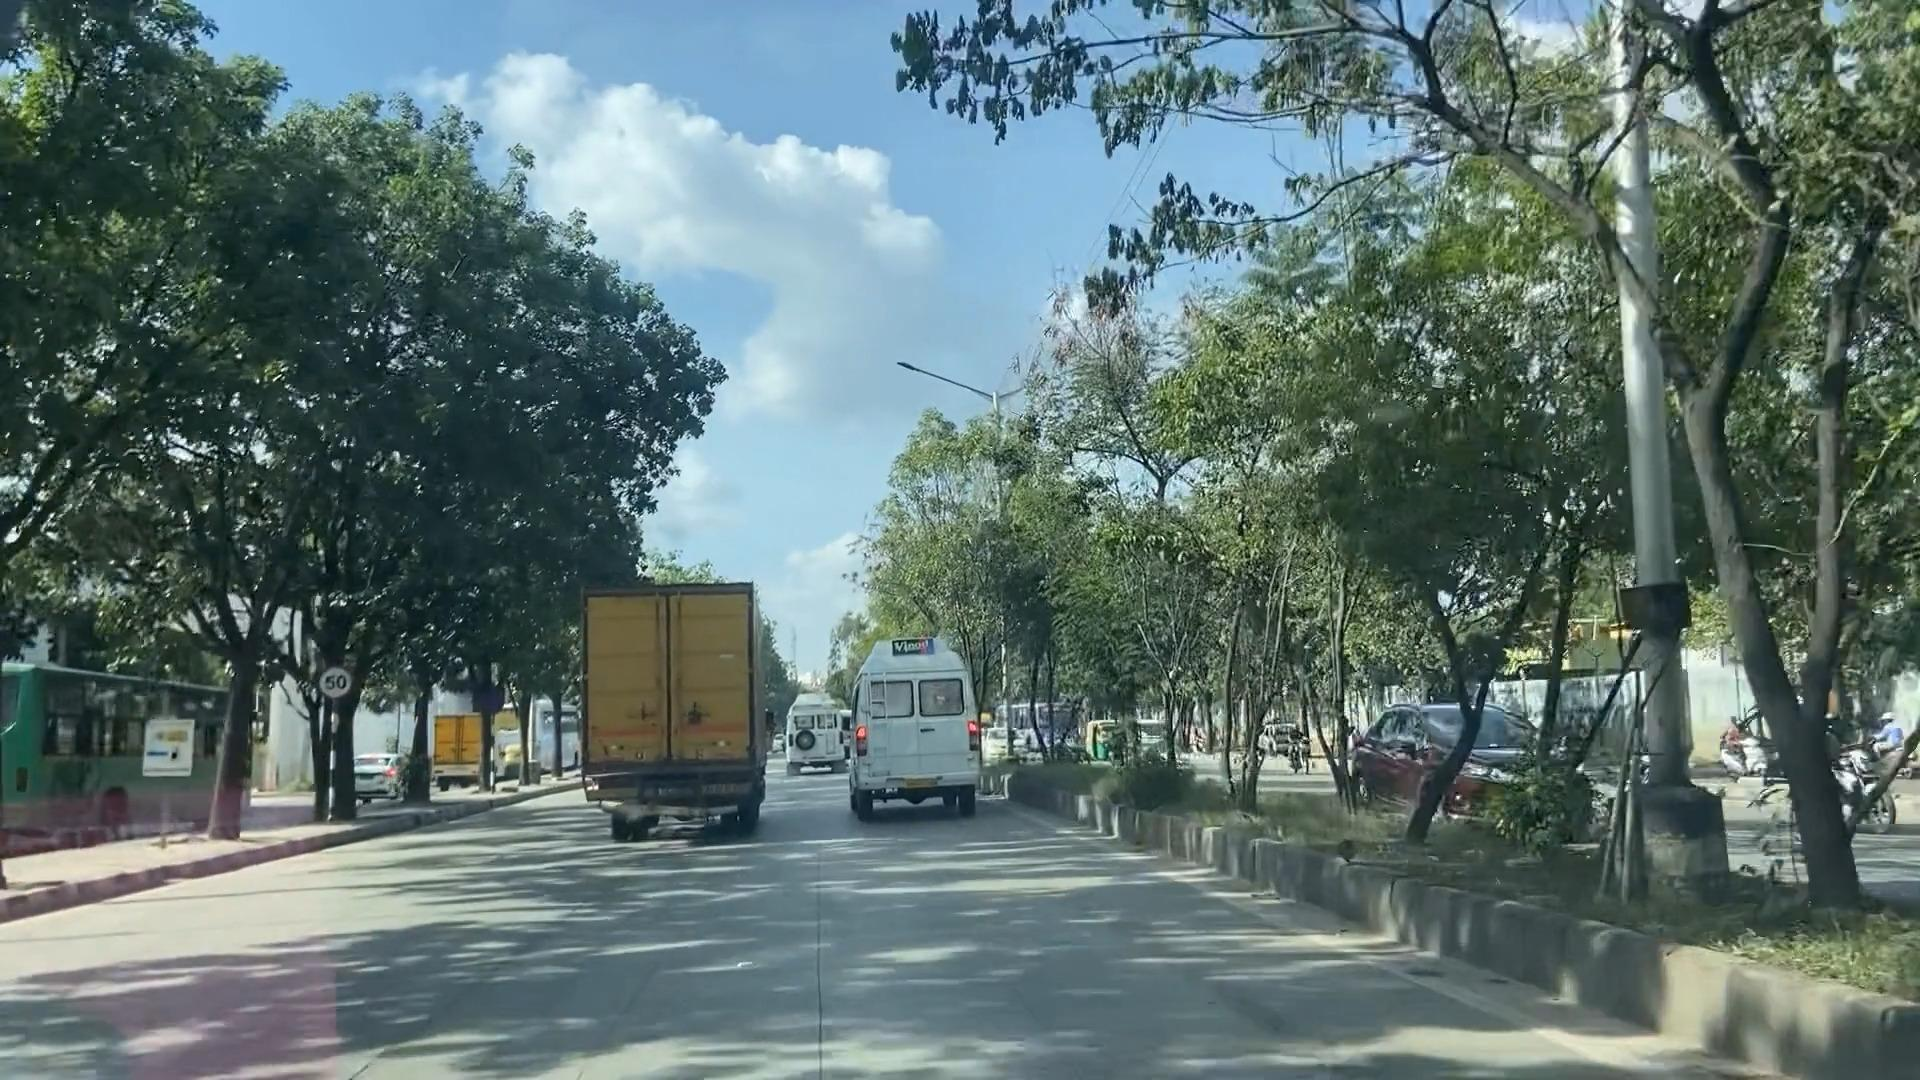HMV: (583, 596, 764, 831), (860, 628, 980, 810)
